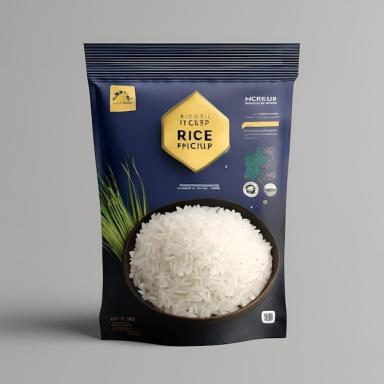rice package: (85, 44, 298, 345)
